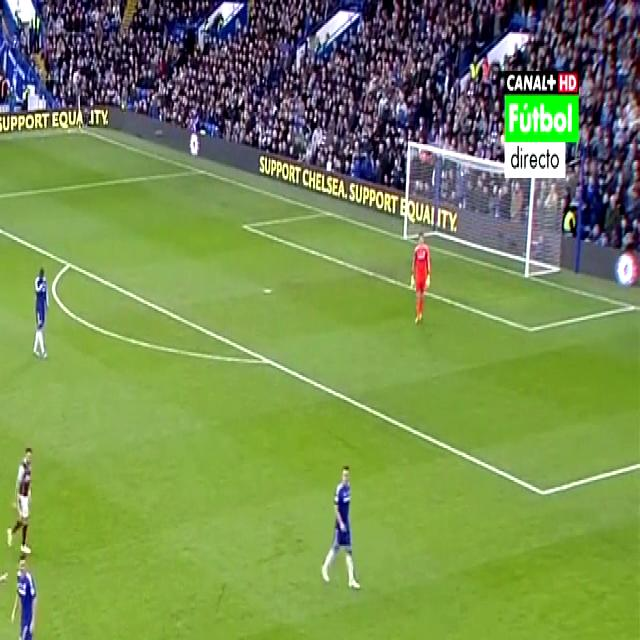goalkeeper: (404, 223, 430, 331)
soccer-player: (314, 447, 366, 595), (8, 436, 39, 564), (9, 551, 46, 640), (28, 257, 54, 367)
